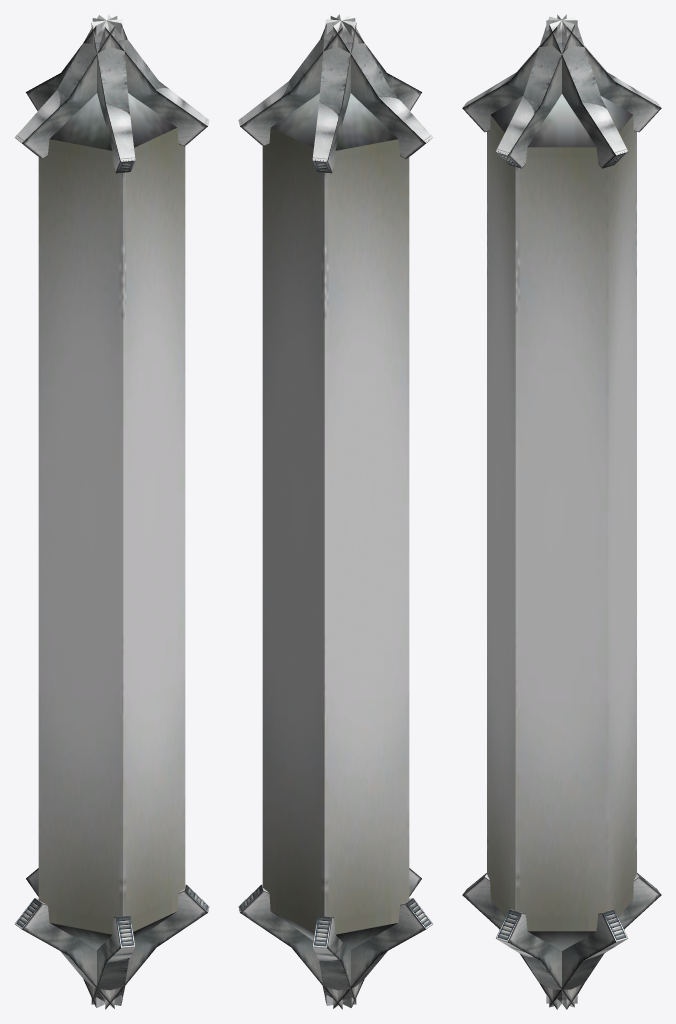
The model's file is corporate_chandelier_6.fbx.
The picture shows the model from 3 angles, left to right: view 1: azimuth 30°, elevation 25°; view 2: azimuth 150°, elevation 25°; view 3: azimuth 270°, elevation 25°; orthographic projection.
Parts seen in each view (by area): view 1: mesh_0; view 2: mesh_0; view 3: mesh_0.
Boxes of the visible parts, x1=… form: mesh_0: x1=14, y1=14, x2=209, y2=1009; mesh_0: x1=238, y1=14, x2=433, y2=1009; mesh_0: x1=462, y1=14, x2=661, y2=1009.
Bounding box in the file's own units: 59.03 × 337 × 62.07.
1 material, 1 textured.
